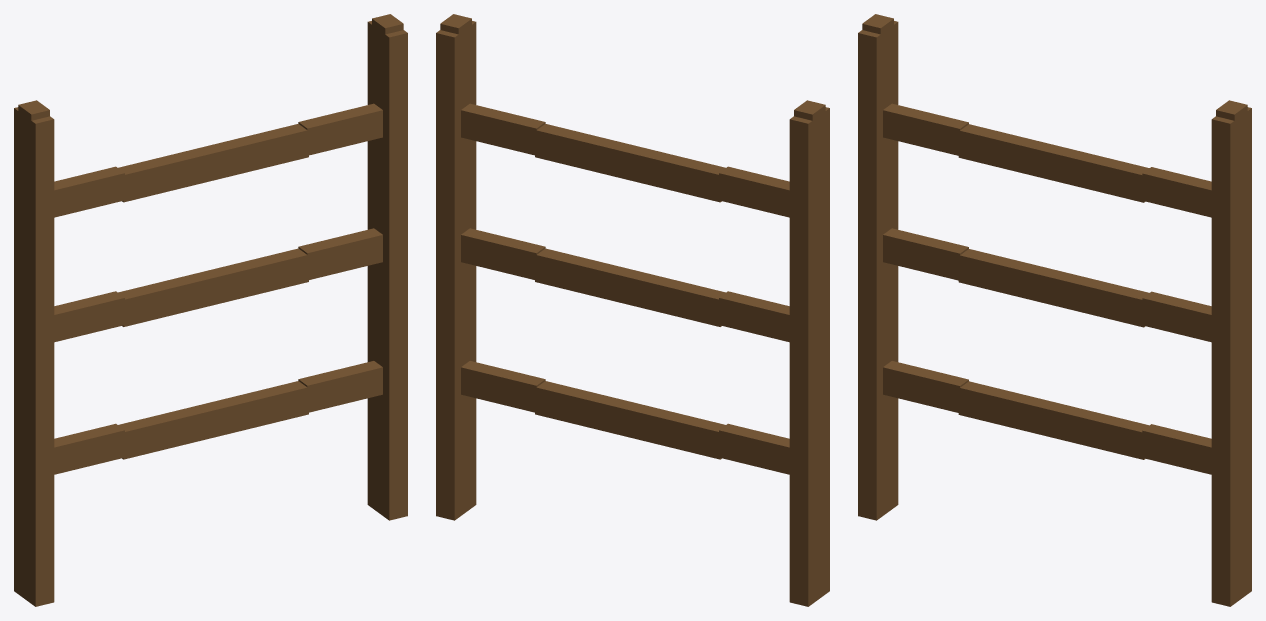
The model's file is mdvl_props_fence_wood_01.glb.
3 renders of one model, left to right at view 1: azimuth 30°, elevation 25°; view 2: azimuth 150°, elevation 25°; view 3: azimuth 330°, elevation 25°, orthographic.
Parts seen in each view (by area): view 1: mdvl_props_fence_wood_01; view 2: mdvl_props_fence_wood_01; view 3: mdvl_props_fence_wood_01.
Part boxes in pixels (box(x1,y1,x2,y2)): mdvl_props_fence_wood_01: box(14, 14, 407, 606); mdvl_props_fence_wood_01: box(436, 14, 829, 606); mdvl_props_fence_wood_01: box(858, 14, 1251, 606).
Size of the model in its own units: 1 by 1.26 by 0.1.
1 material, 1 textured.
